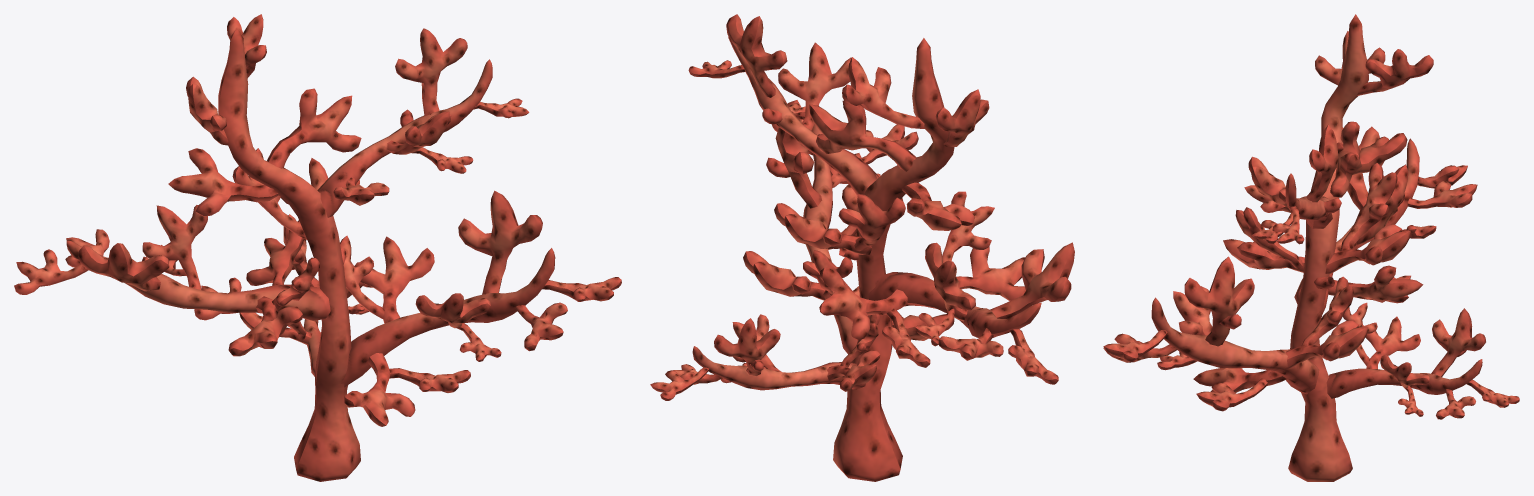
Rendered from SHANH6.fbx.
The picture shows the model from 3 angles, left to right: view 1: azimuth 30°, elevation 25°; view 2: azimuth 150°, elevation 25°; view 3: azimuth 270°, elevation 25°; orthographic projection. The views are drawn at different scales.
Visible parts, largest first — view 1: Cartoon_Seaweed_10_1_Cartoon_Seaweed_10_0; view 2: Cartoon_Seaweed_10_1_Cartoon_Seaweed_10_0; view 3: Cartoon_Seaweed_10_1_Cartoon_Seaweed_10_0.
Boxes of the visible parts, left/top/right/bottom form: Cartoon_Seaweed_10_1_Cartoon_Seaweed_10_0: left=14, top=14, right=621, bottom=481; Cartoon_Seaweed_10_1_Cartoon_Seaweed_10_0: left=650, top=14, right=1074, bottom=481; Cartoon_Seaweed_10_1_Cartoon_Seaweed_10_0: left=1103, top=14, right=1519, bottom=481.
Size of the model in its own units: 70.44 by 68.89 by 60.5.
